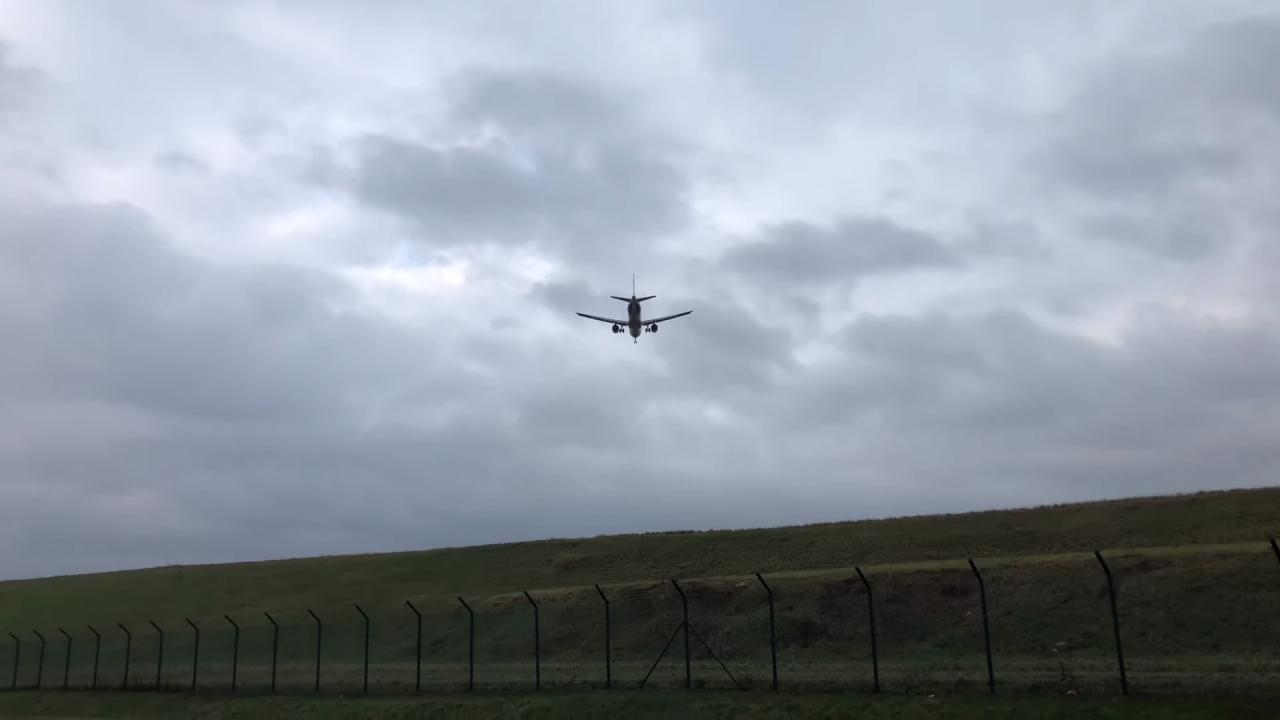Airplane: (566, 265, 700, 346)
